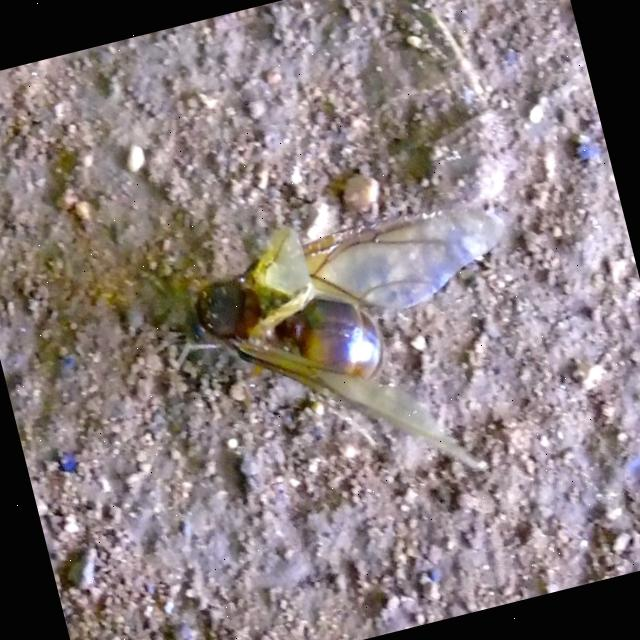Alive-Male-Alate: (118, 170, 563, 546)
